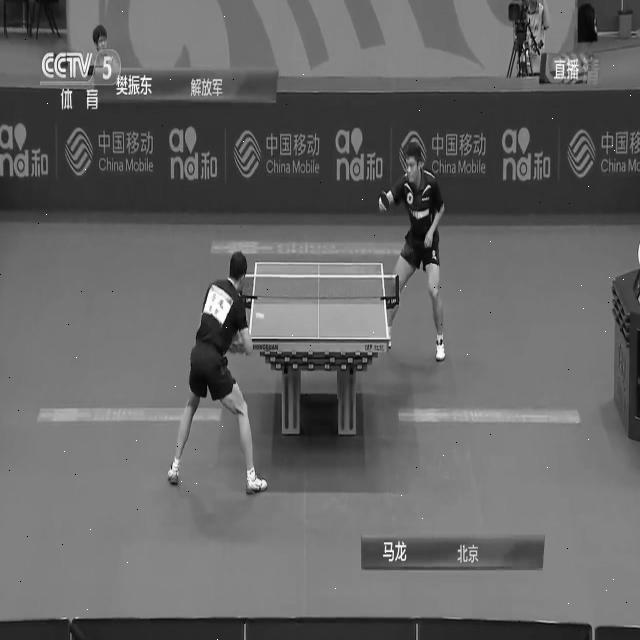ping-pong-ball: (254, 308, 264, 322)
